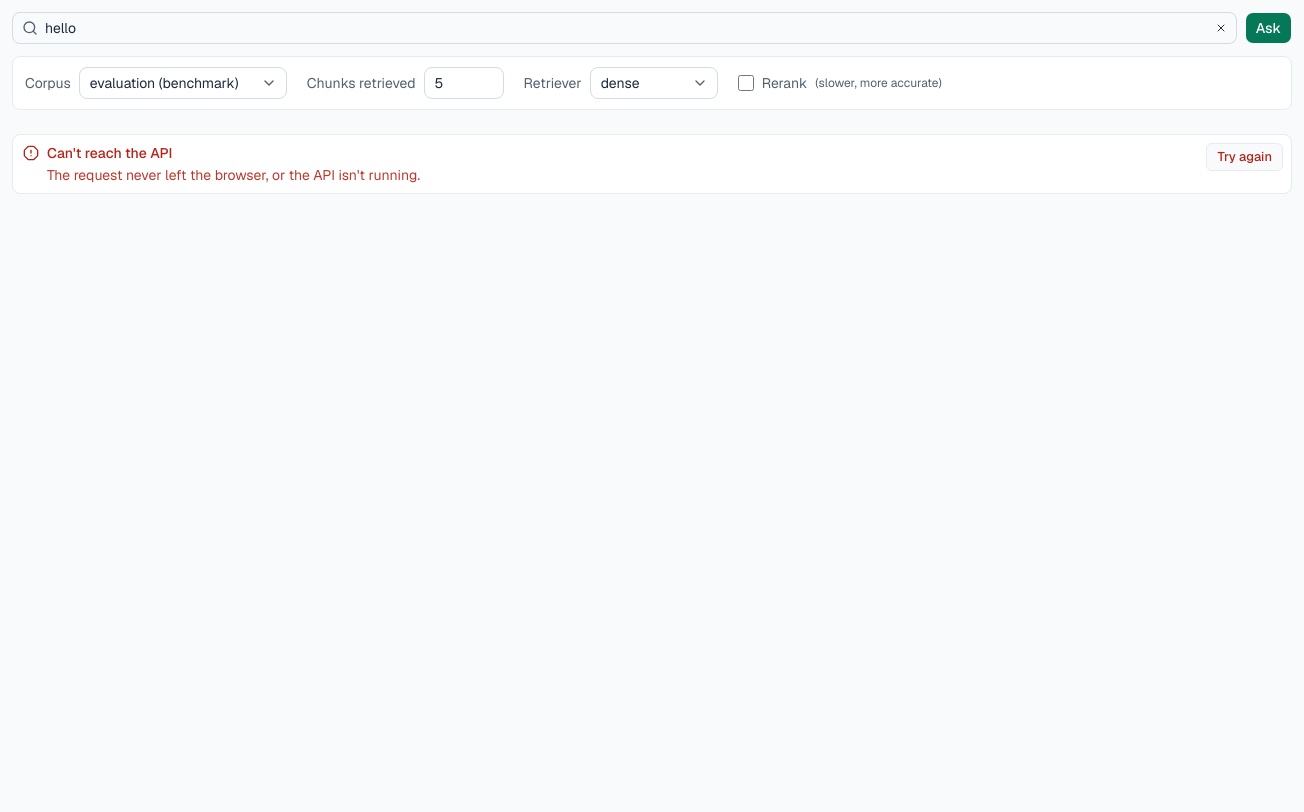
QueryPanel › failure part-way through › offers a retry for a network failure and re-runs the request
What coordinates should you click on to do the following:
click the button "Try again"
I would click on:
 (1245, 157)
Its box is x1=1206 y1=143 x2=1283 y2=171.
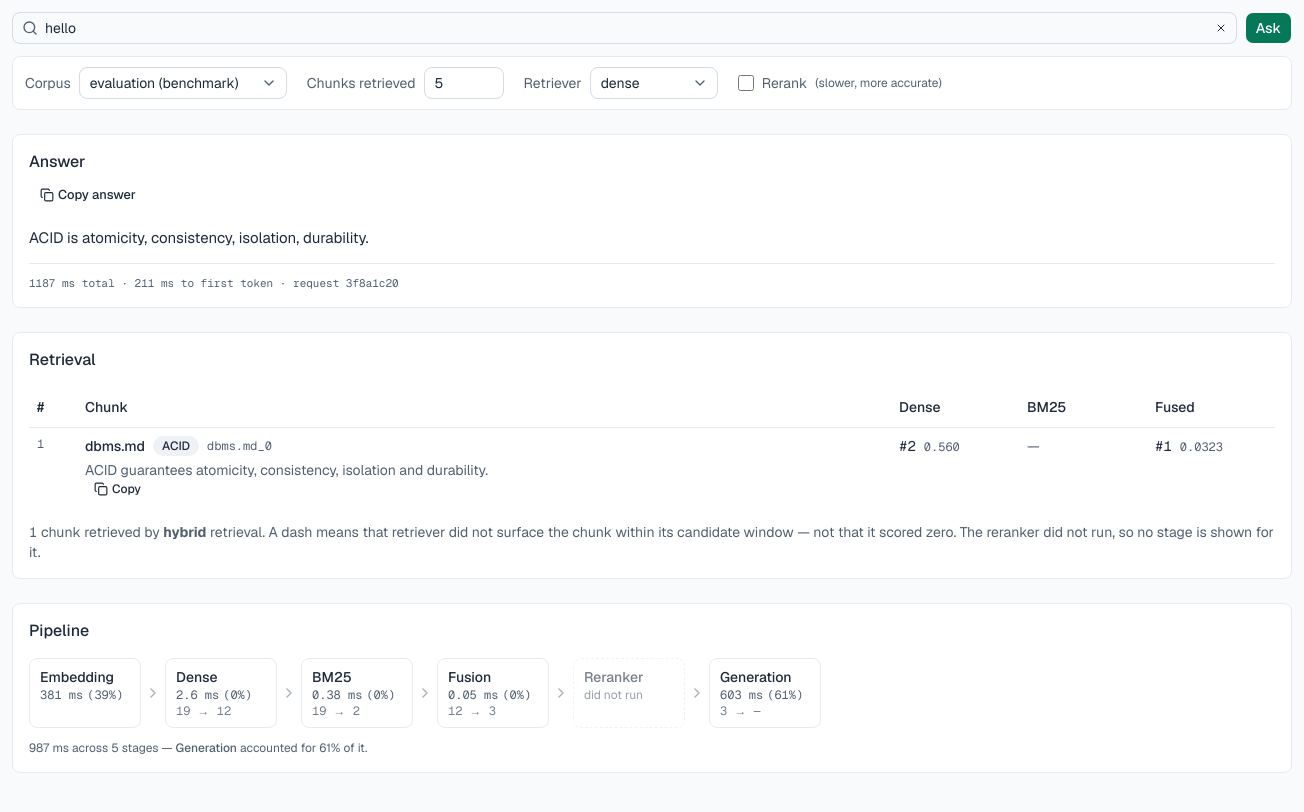
Check: the text "ACID is atomicity, consistency, isolation, durability." is shown, box x1=29 y1=228 x2=369 y2=247
